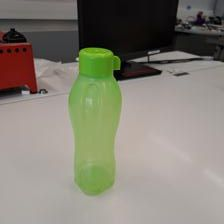bottle: (69, 44, 122, 194)
